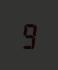nine: (19, 19, 36, 50)
